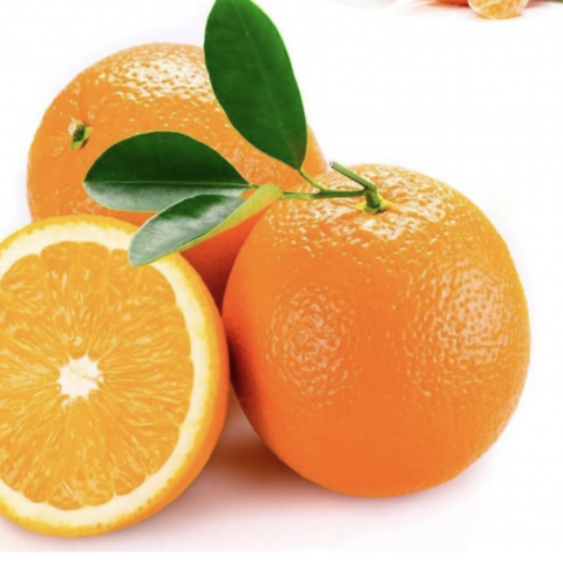orange: (200, 128, 544, 514), (17, 36, 359, 348)
